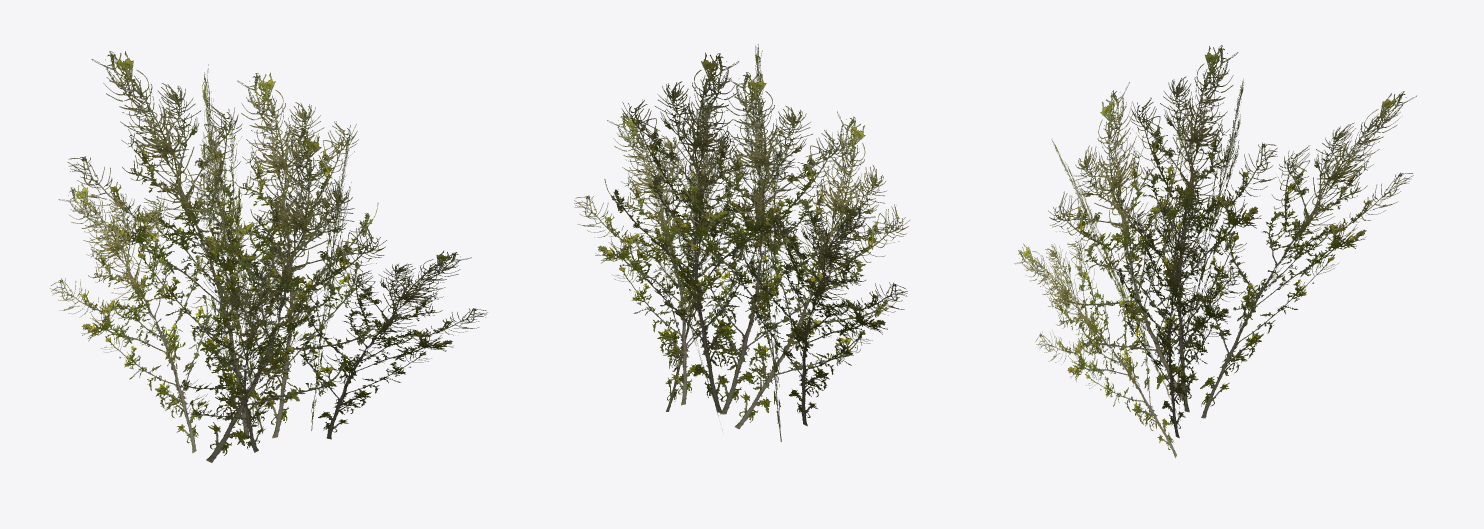
The picture shows the model from 3 angles, left to right: view 1: azimuth 30°, elevation 25°; view 2: azimuth 150°, elevation 25°; view 3: azimuth 270°, elevation 25°; orthographic projection. The views are drawn at different scales.
Parts seen in each view (by area): view 1: Grass012; view 2: Grass012; view 3: Grass012.
Boxes of the visible parts, <box> form: Grass012: <box>50,51,487,462</box>; Grass012: <box>574,44,910,441</box>; Grass012: <box>1014,45,1416,457</box>.
Size of the model in its own units: 83.81 by 87.8 by 92.16.
